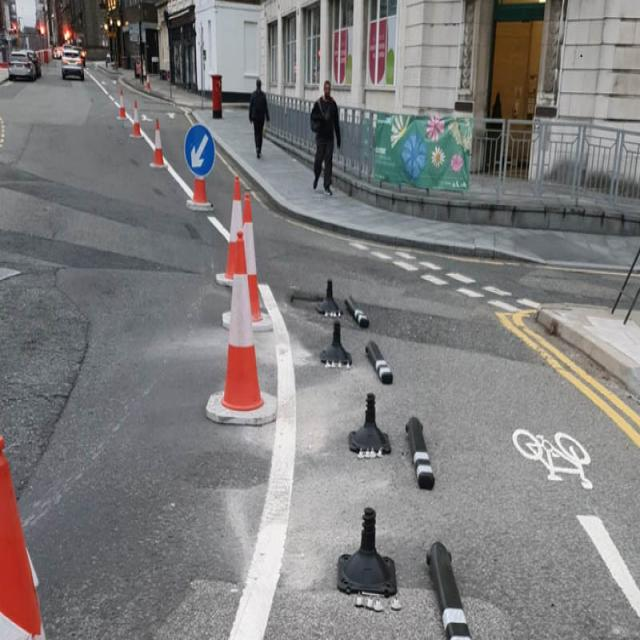cone: (207, 238, 280, 424), (234, 195, 270, 326), (216, 174, 246, 279), (152, 120, 176, 182), (127, 100, 149, 134), (117, 87, 128, 117)
